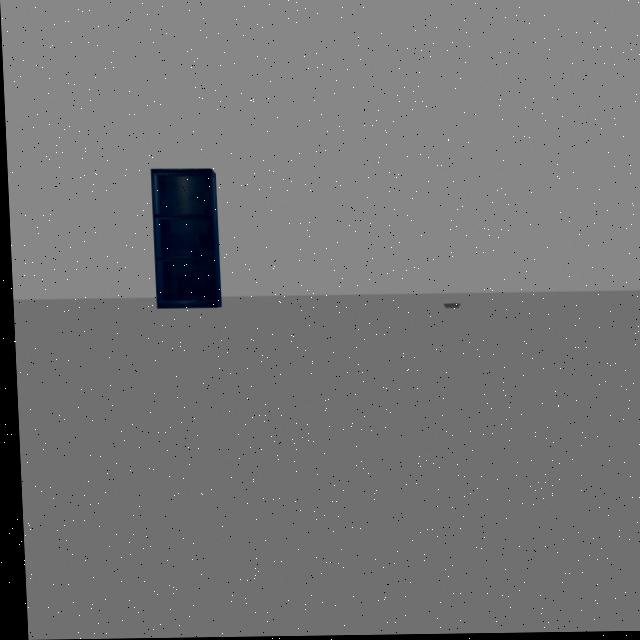bowl: (435, 295, 470, 317)
shelf: (145, 163, 223, 315)
